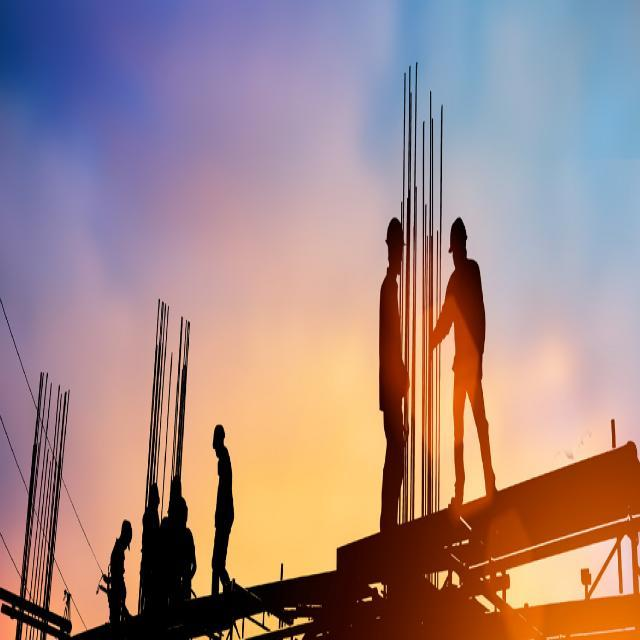reflective_jacket: (106, 533, 129, 617)
safety_helmet: (446, 205, 471, 250), (384, 206, 405, 249)
